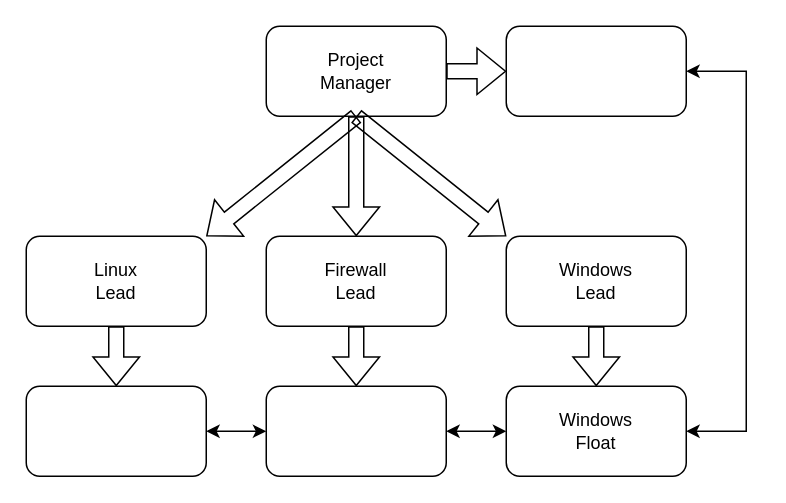
Image size: 786x503. Some labels were removed from this diagram. The shapes that lost their labels are listed below. From the top down, each one's centre as x and y in pixels, then its label:
At (x=595, y=70): "PM Float".
At (x=115, y=430): "Linux Float".
At (x=355, y=430): "Firewall Float".
